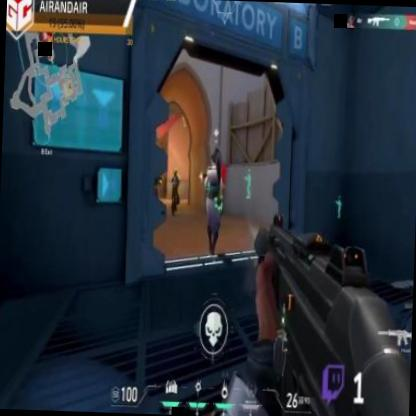enemy: (149, 167, 161, 223), (169, 170, 182, 214)
enemy_head: (152, 168, 158, 178), (174, 168, 178, 175)
